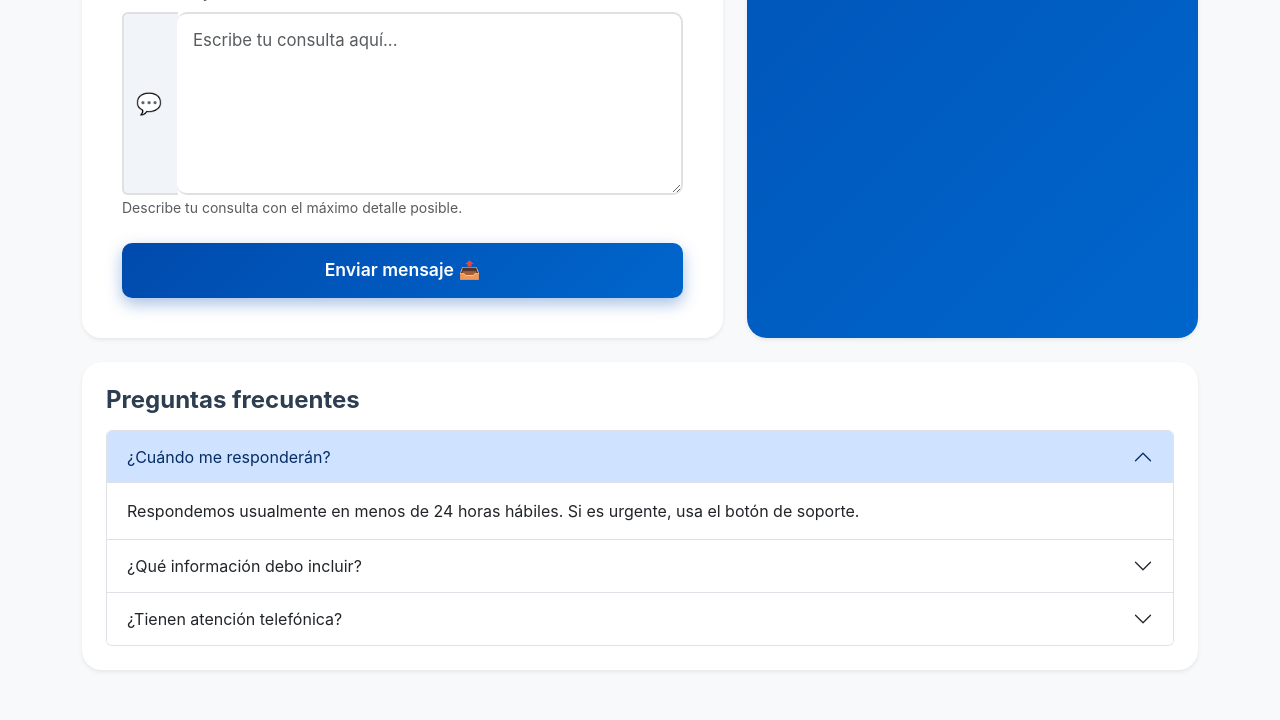
Contact Component › muestra errores cuando el formulario se envía vacío
The image size is (1280, 720).
(page scrolled)
Note: Click en "Enviar" sin rellenar nada
Click the button "Enviar mensaje 📤".
click(402, 270)  # box [122,243,683,298]
(page scrolled)
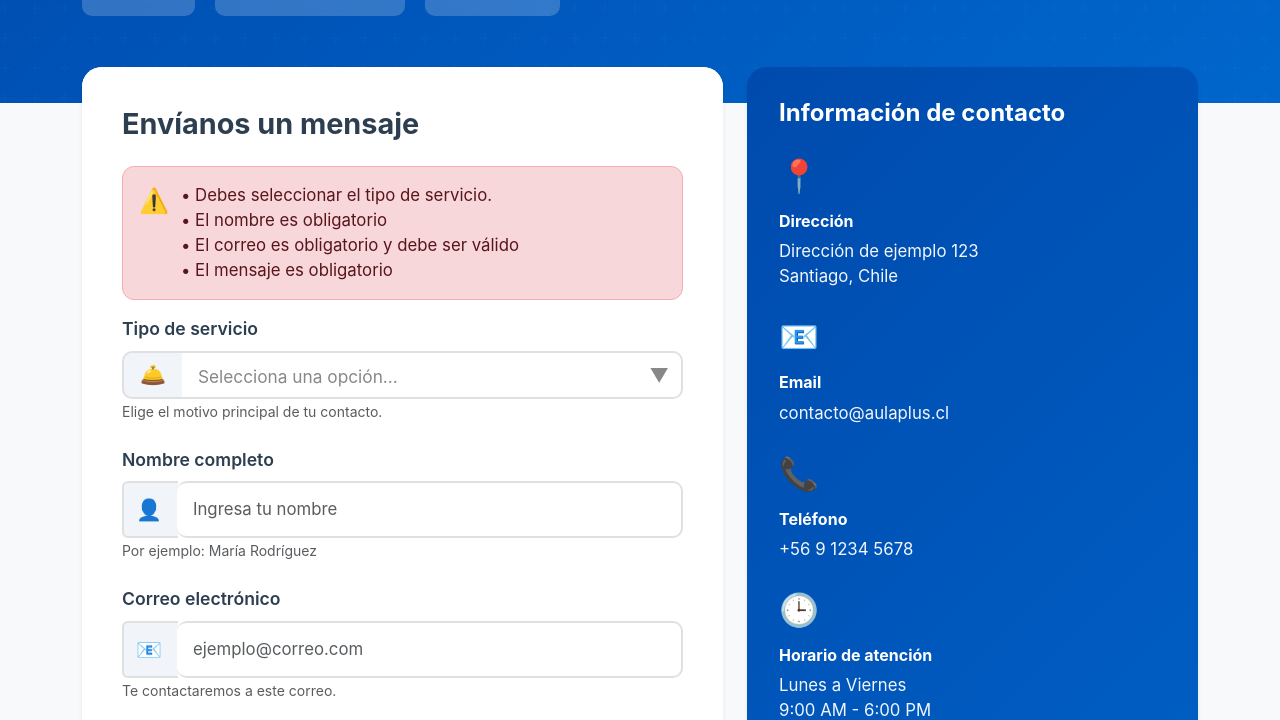
Expected: the text "• El nombre es obligatorio" is shown, [181,210,387,230]
Expected: the text "• El correo es obligatorio y debe ser válido" is shown, [181,233,519,258]
Expected: the text "• El mensaje es obligatorio" is shown, [181,260,393,280]
